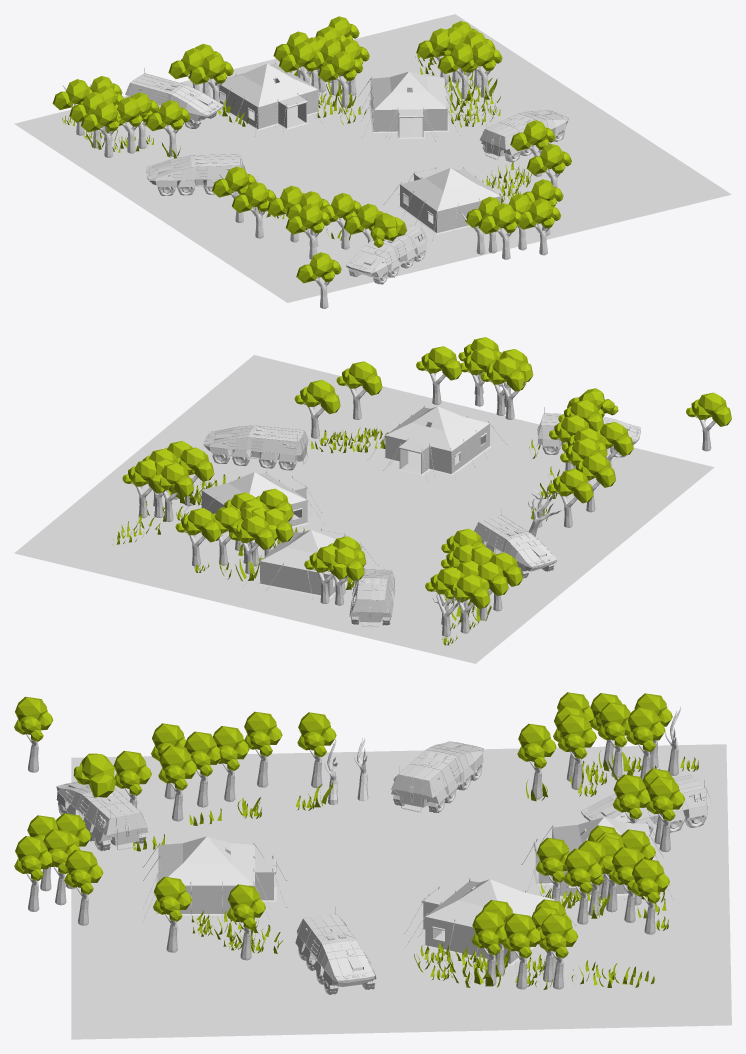
The model's file is Levev1.fbx.
3 renders of one model, top to bottom at view 1: azimuth 30°, elevation 25°; view 2: azimuth 150°, elevation 25°; view 3: azimuth 270°, elevation 25°, orthographic. The views are drawn at different scales.
Parts seen in each view (by area): view 1: Plane, Icosphere.001, CarCorp.001, Cylinder.003, grass1.001, Hide.002, Hide, Hide.003; view 2: Plane, Icosphere.001, CarCorp.001, Cylinder.003, grass1.001, Hide, Hide.003, Hide.002; view 3: Plane, Icosphere.001, CarCorp.001, grass1.001, Cylinder.003, Hide, Hide.002, Hide.003, Door.003, Door.
Boxes of the visible parts, x1,y1,x2,y2 form: Plane: (14,14,731,302); Icosphere.001: (52,16,571,308); CarCorp.001: (125,67,568,284); Cylinder.003: (206,62,505,240); grass1.001: (62,54,531,240); Hide.002: (370,71,447,109); Hide: (400,168,500,211); Hide.003: (216,63,317,107); Plane: (14,355,714,663); Icosphere.001: (122,337,731,636); CarCorp.001: (203,407,640,626); Cylinder.003: (184,405,507,604); grass1.001: (112,426,559,645); Hide: (385,406,489,451); Hide.003: (260,530,361,574); Hide.002: (202,472,306,504); Plane: (71,744,731,1039); Icosphere.001: (14,692,684,989); CarCorp.001: (56,741,711,994); grass1.001: (133,749,698,989); Cylinder.003: (142,821,673,973); Hide: (158,836,254,885); Hide.002: (426,879,554,927); Hide.003: (552,817,655,860); Door.003: (401,776,422,806); Door: (116,814,137,845).
Bounding box in the file's own units: 4372 × 546 × 4489.
